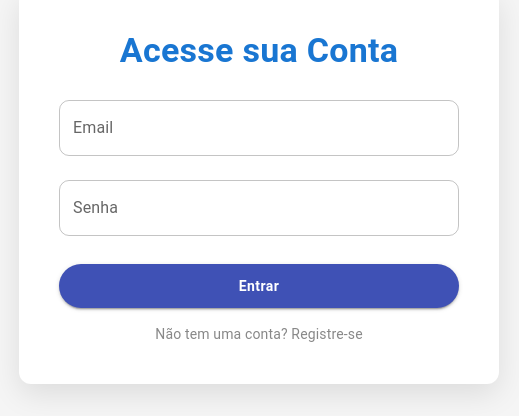
Scenario: LoginPage Component › displays loading spinner when login is in progress
This screenshot has width=519, height=416.
In the field labelled "Email": (259, 128) [59,100,459,156], type "test@example.com"
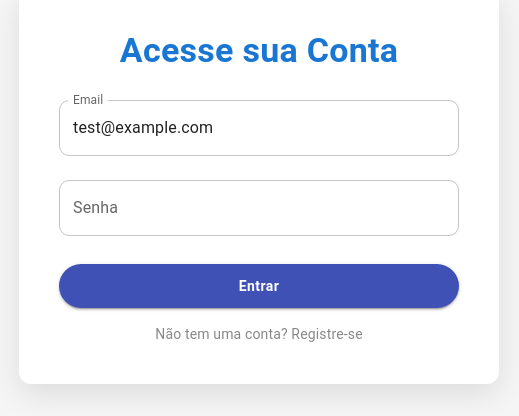
In the password field labelled "Senha": (259, 208) [59,180,459,236], type "password123"
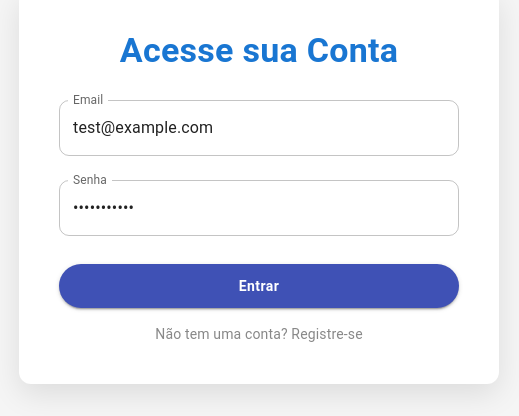
Click the button "Entrar": (259, 286) [59,264,459,308]
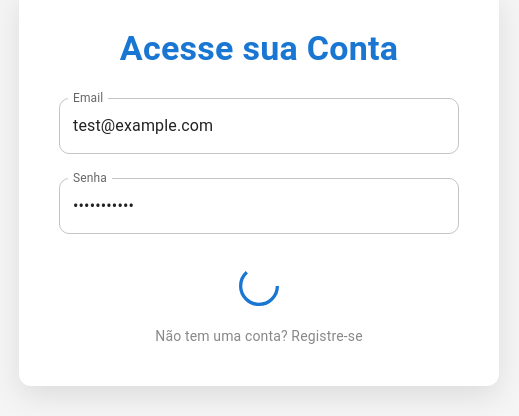
Check: the progress indicator is shown, box [239,266,279,306]
